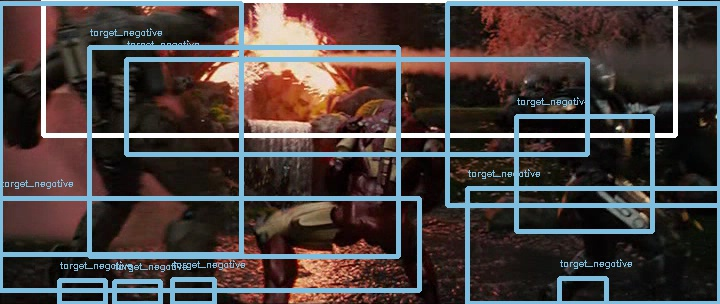person: (370, 97, 412, 134), (369, 97, 411, 134), (371, 97, 413, 134), (370, 96, 412, 133), (370, 98, 412, 135)
target_negative: (120, 14, 704, 208), (103, 178, 673, 287), (33, 121, 477, 142), (76, 195, 617, 209), (679, 122, 719, 282), (510, 22, 653, 31)
